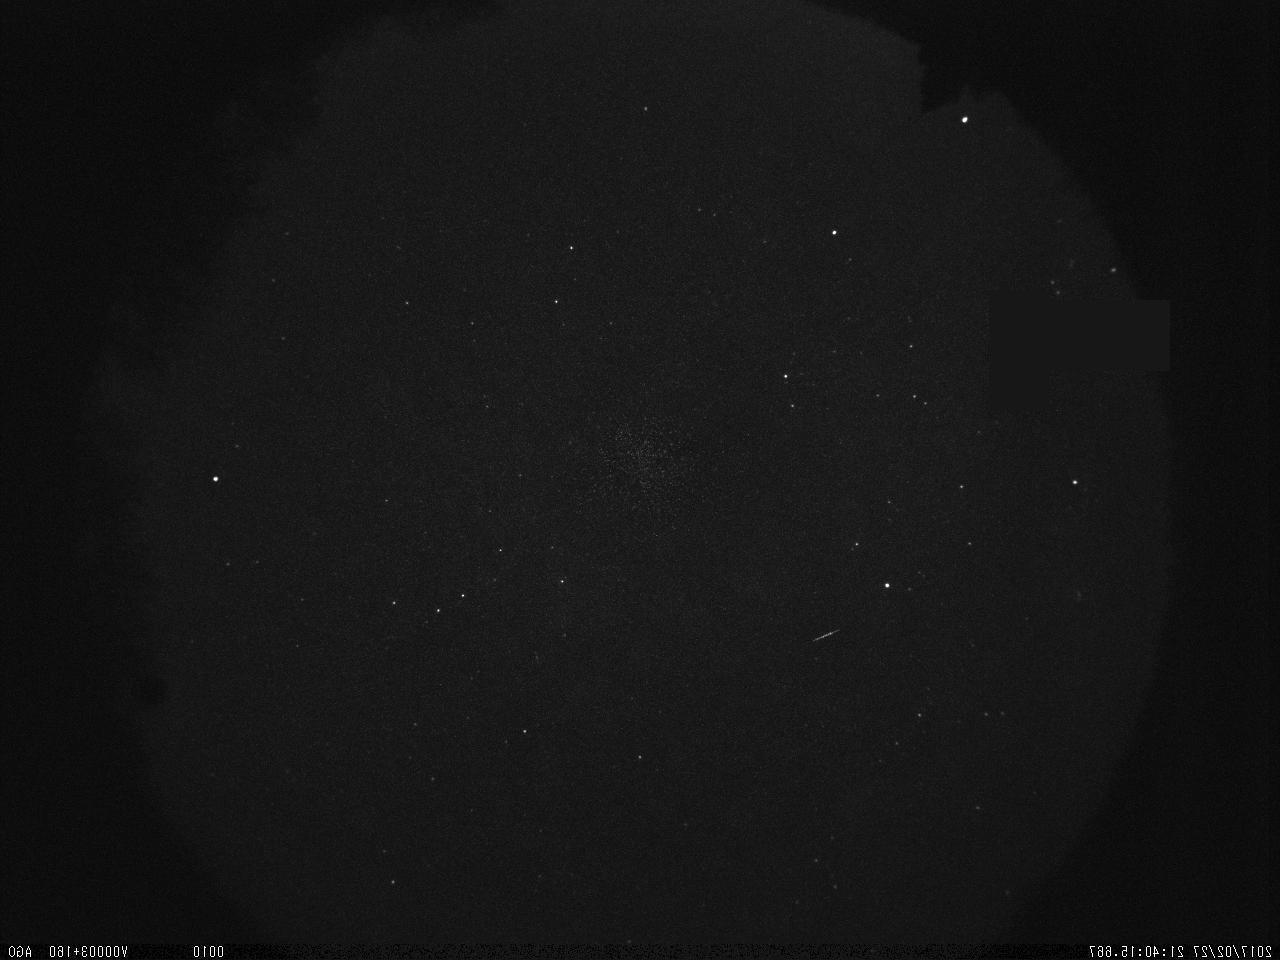meteor: (805, 622, 847, 651)
